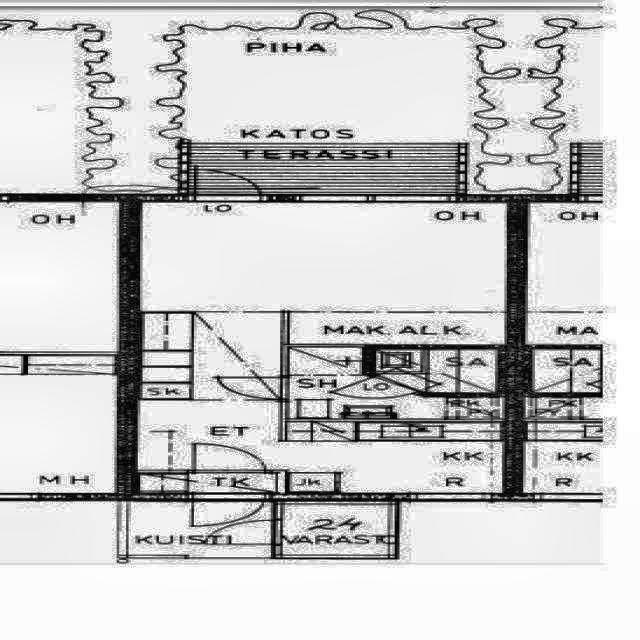room: (288, 347, 500, 440), (276, 502, 395, 558), (376, 350, 497, 393), (140, 475, 276, 493)
